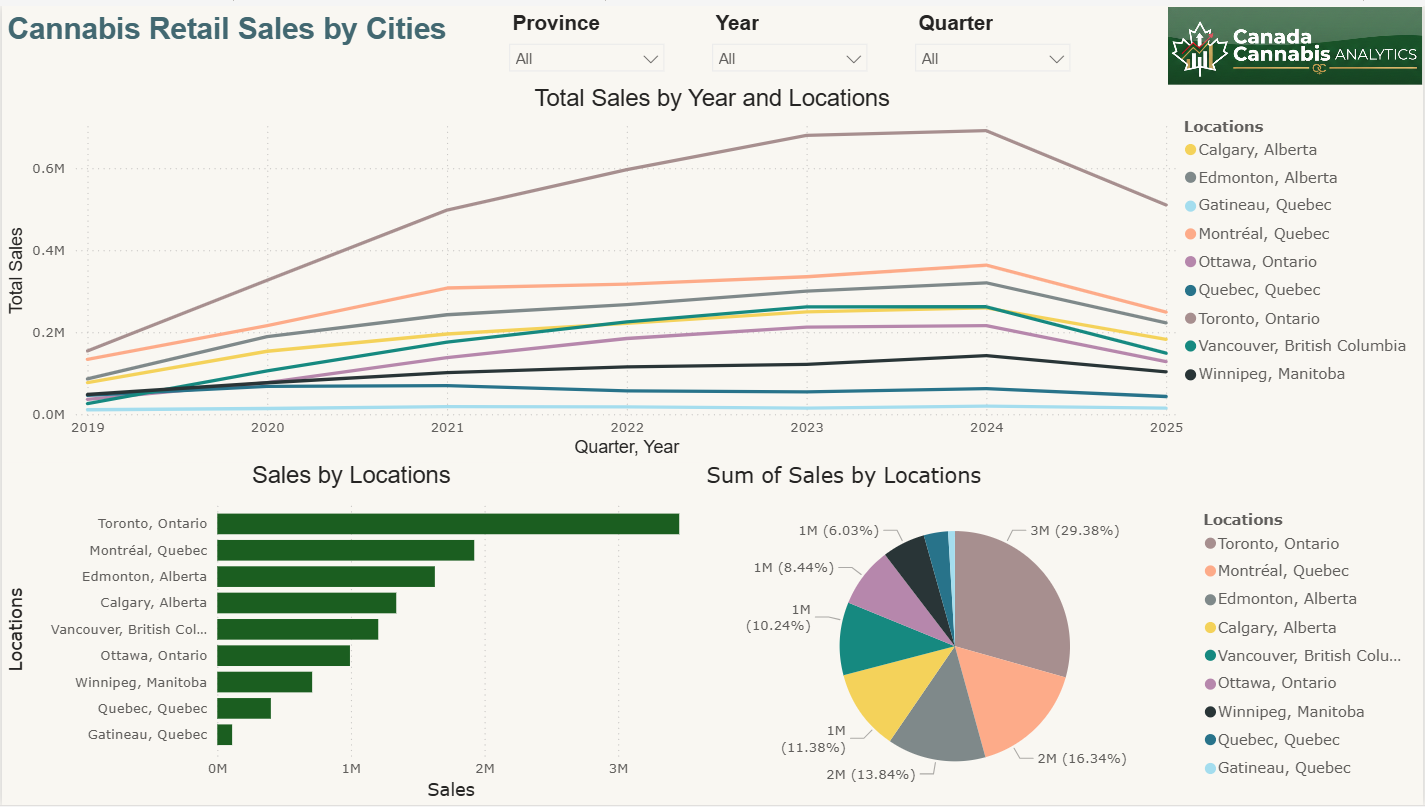

What the dashboard file says about the page in this screenshot:
{"tool":"powerbi","page":{"name":"Cannabis Retail Sales by Cities","canvas":[1280,720],"ordinal":3},"visuals":[{"type":"slicer","fields":{"Values":["Cannabis Retail Sales.GEO"]},"box":[447.1,0,160.2,71],"z":0},{"type":"barChart","title":"Sales by Locations","fields":{"Category":["Cannabis Retail Sales.GEO"],"Y":["Sum(Cannabis Retail Sales.VALUE)"]},"box":[0,410.7,629.4,309],"z":1000},{"type":"lineChart","fields":{"Y":["Sum(Cannabis Retail Sales.VALUE)"],"Category":["Cannabis Retail Sales.Year"],"Series":["Cannabis Retail Sales.Locations"]},"box":[0,71,1280,339.7],"z":2000},{"type":"slicer","fields":{"Values":["Cannabis Retail Sales.Year"]},"box":[629.9,0,160.2,71],"z":3000},{"type":"slicer","fields":{"Values":["Cannabis Retail Sales.Quater"]},"box":[812.7,0,160.2,71],"z":4000},{"type":"pieChart","fields":{"Category":["Cannabis Retail Sales.Locations"],"Y":["Sum(Cannabis Retail Sales.Sales)"]},"box":[629.4,410.7,650.6,309],"z":5000},{"type":"textbox","box":[0,1,412.6,72],"z":6000},{"type":"image","box":[1050.7,1,229.3,70],"z":6001}]}

Visuals, with their boxes in screenshot pixels (x1, y1, x2, y2), scaled from the page's 1280x720 canvas onto the 1425x807 screenshot:
slicer - Cannabis Retail Sales.GEO: box(498, 0, 676, 80)
"Sales by Locations" barChart: box(0, 460, 701, 806)
lineChart - Sum(Cannabis Retail Sales.VALUE) x Cannabis Retail Sales.Year: box(0, 80, 1424, 460)
slicer - Cannabis Retail Sales.Year: box(701, 0, 880, 80)
slicer - Cannabis Retail Sales.Quater: box(905, 0, 1083, 80)
pieChart - Cannabis Retail Sales.Locations x Sum(Cannabis Retail Sales.Sales): box(701, 460, 1424, 806)
textbox: box(0, 1, 459, 82)
image: box(1170, 1, 1424, 80)
